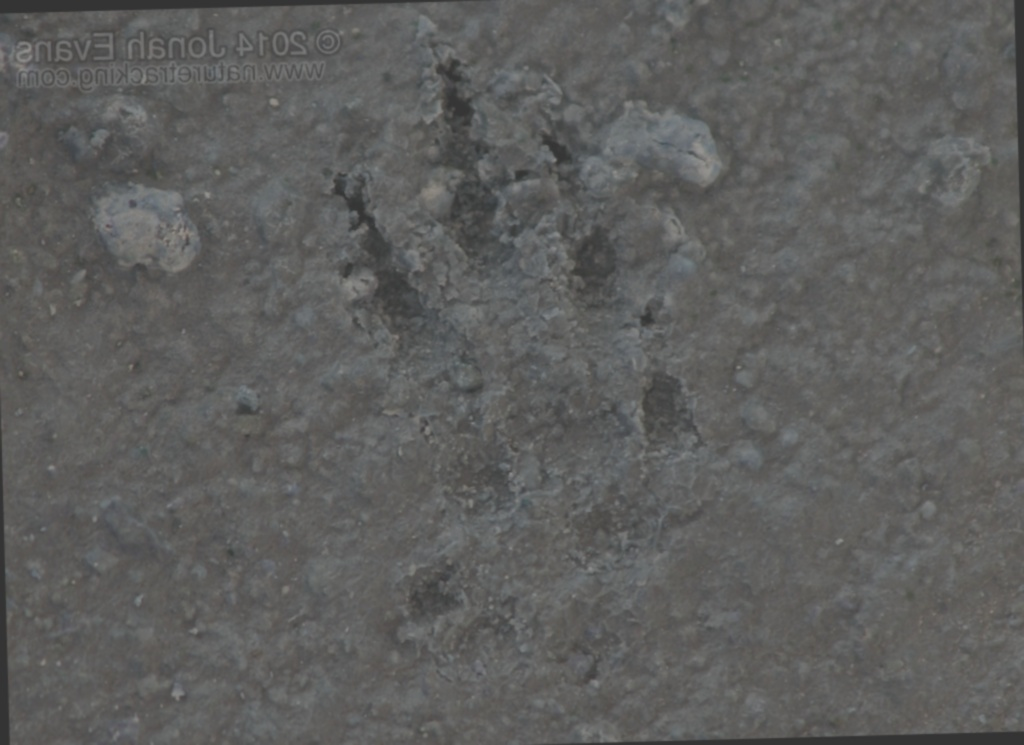ecureuil: (280, 2, 710, 707)
